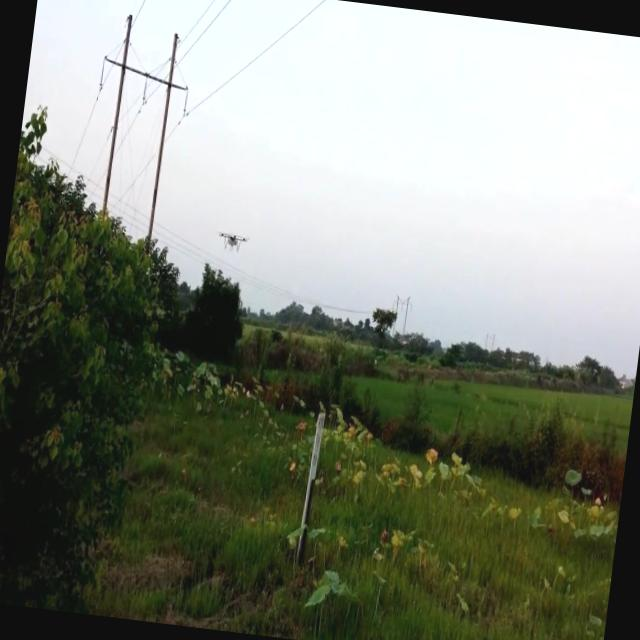drone: (216, 230, 252, 256)
